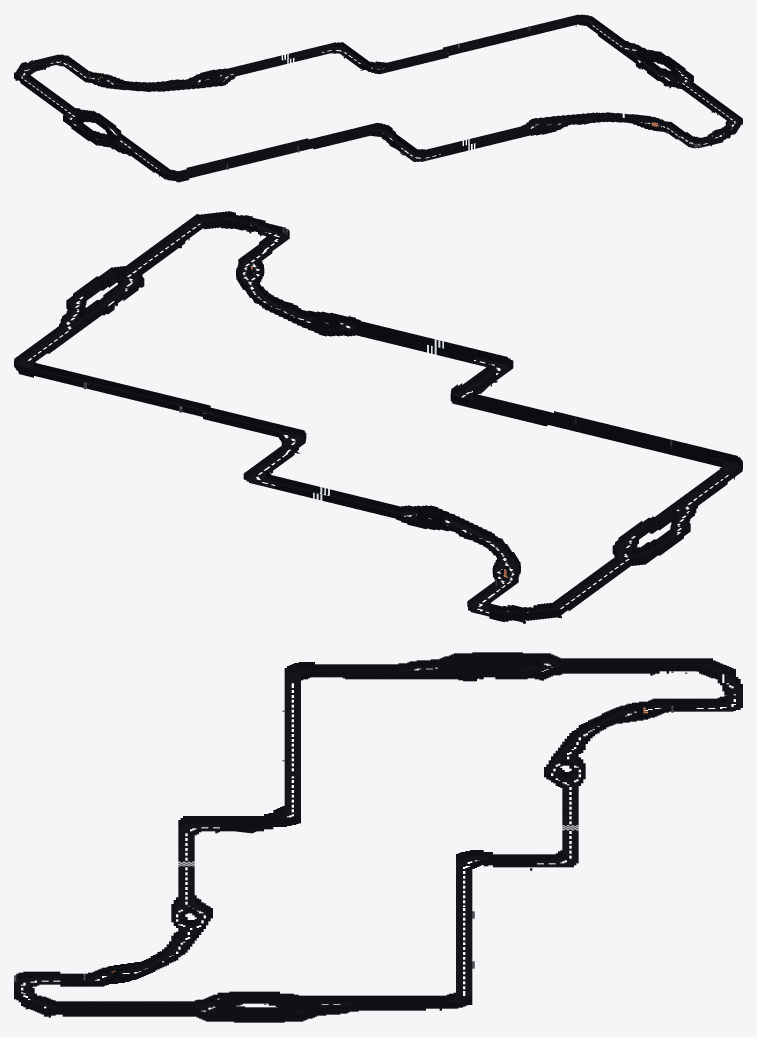
File: Racw.glb
The picture shows the model from 3 angles, top to bottom: view 1: azimuth 30°, elevation 25°; view 2: azimuth 150°, elevation 25°; view 3: azimuth 270°, elevation 25°; orthographic projection. The views are drawn at different scales.
Visible parts, largest first — view 1: stone.019; view 2: stone.019; view 3: stone.019.
Part boxes in pixels (x1,y1,x2,y2): stone.019: [14, 14, 742, 182]; stone.019: [14, 211, 742, 623]; stone.019: [14, 652, 742, 1022].
Bounding box in the file's own units: 372 × 11 × 315.
17 materials, 17 textured.
